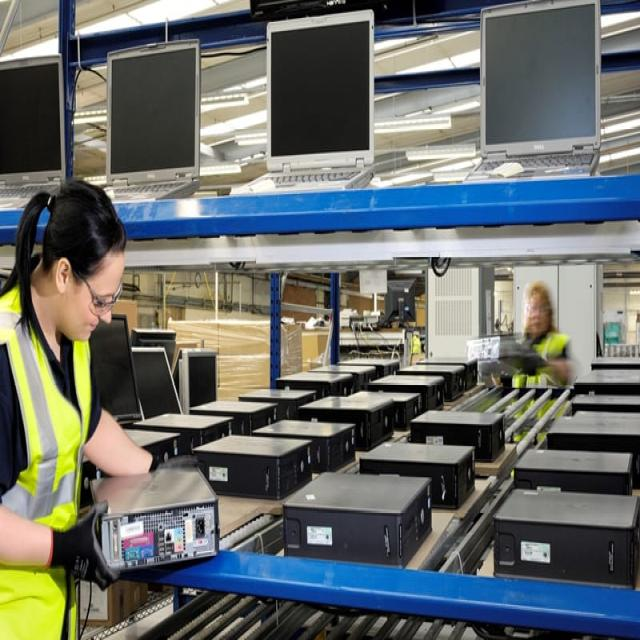Hazard: (88, 350, 636, 588), (236, 10, 379, 207), (470, 0, 603, 191), (98, 39, 207, 189)
